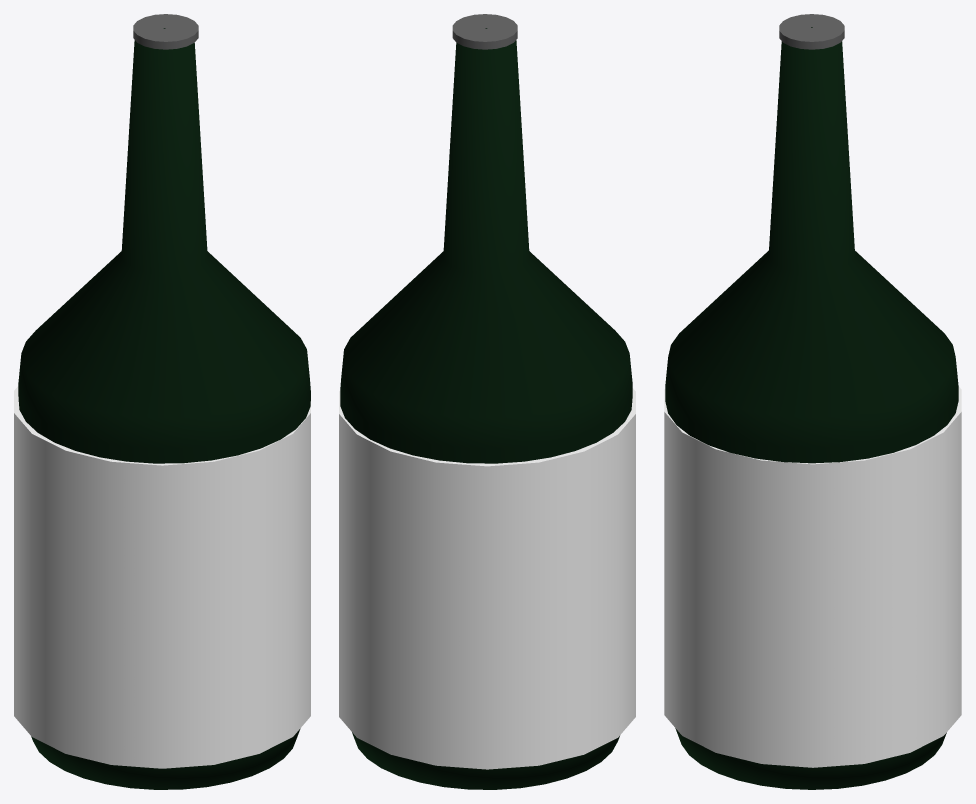
Rendered from Wine Bottle.fbx.
3 views of the same model, side by side, from view 1: azimuth 30°, elevation 25°; view 2: azimuth 150°, elevation 25°; view 3: azimuth 270°, elevation 25° (orthographic).
Visible parts, largest first — view 1: Cylinder031, Sphere016, Cylinder097; view 2: Cylinder031, Sphere016, Cylinder097; view 3: Cylinder031, Sphere016, Cylinder097.
Boxes of the visible parts, x1,y1,x2,y2 form: Cylinder031: (14,386,310,768); Sphere016: (18,28,310,789); Cylinder097: (133,14,198,49); Cylinder031: (339,388,635,769); Sphere016: (340,28,632,789); Cylinder097: (452,14,517,49); Cylinder031: (664,386,961,767); Sphere016: (665,27,958,789); Cylinder097: (779,14,844,49).
Size of the model in its own units: 24.83 by 64.2 by 24.45.
